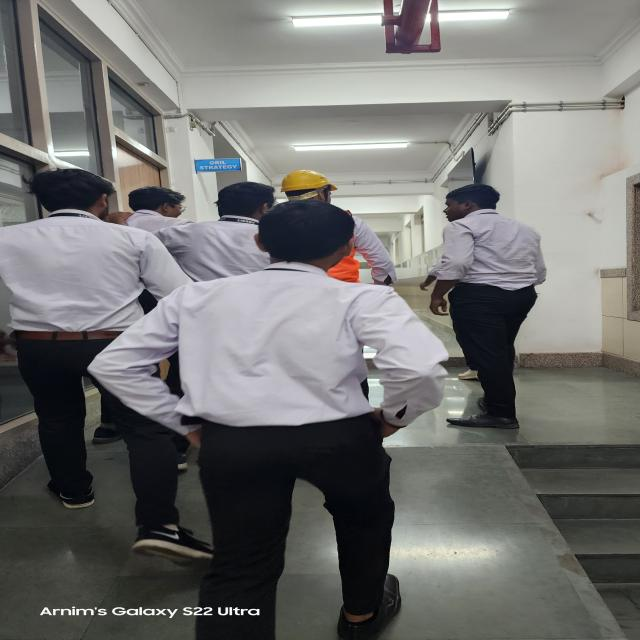unsafe: (90, 198, 448, 640), (0, 165, 218, 568), (422, 182, 545, 431)
